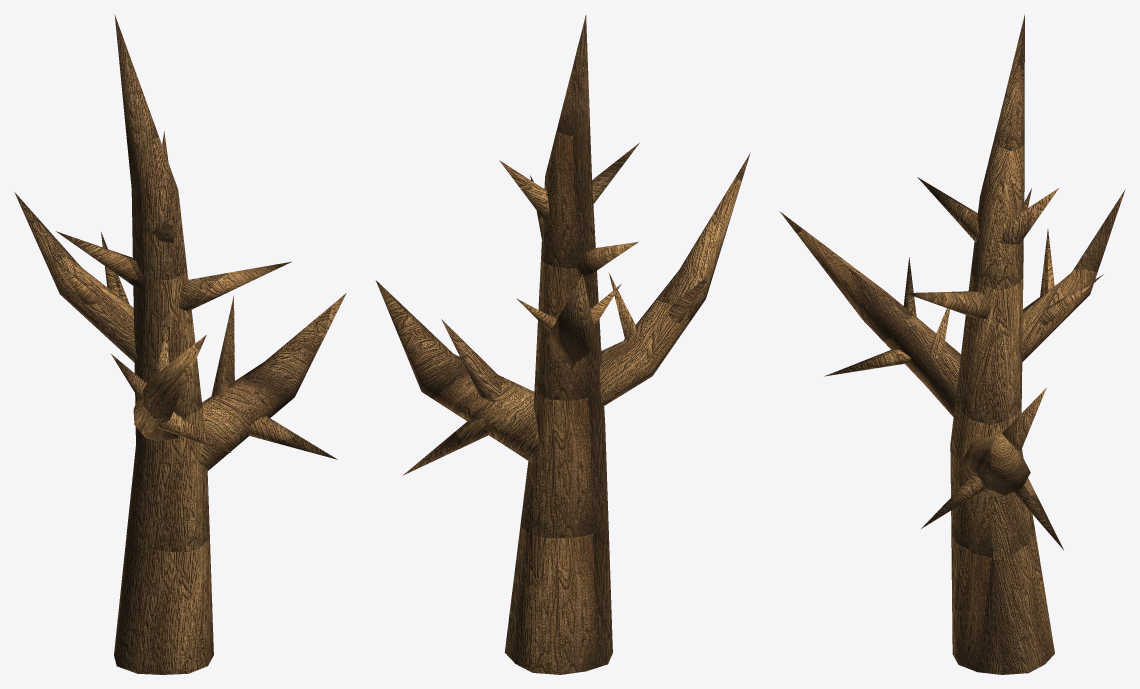
Rendered from dead_tree.obj.
3 views of the same model, side by side, from view 1: azimuth 30°, elevation 25°; view 2: azimuth 150°, elevation 25°; view 3: azimuth 270°, elevation 25° (orthographic). The views are drawn at different scales.
Parts seen in each view (by area): view 1: Circle_Circle.001; view 2: Circle_Circle.001; view 3: Circle_Circle.001.
Part boxes in pixels (x1,y1,x2,y2): Circle_Circle.001: (14, 14, 346, 674); Circle_Circle.001: (375, 15, 750, 674); Circle_Circle.001: (779, 14, 1125, 674).
Bounding box in the file's own units: 6.41 × 13.89 × 7.
